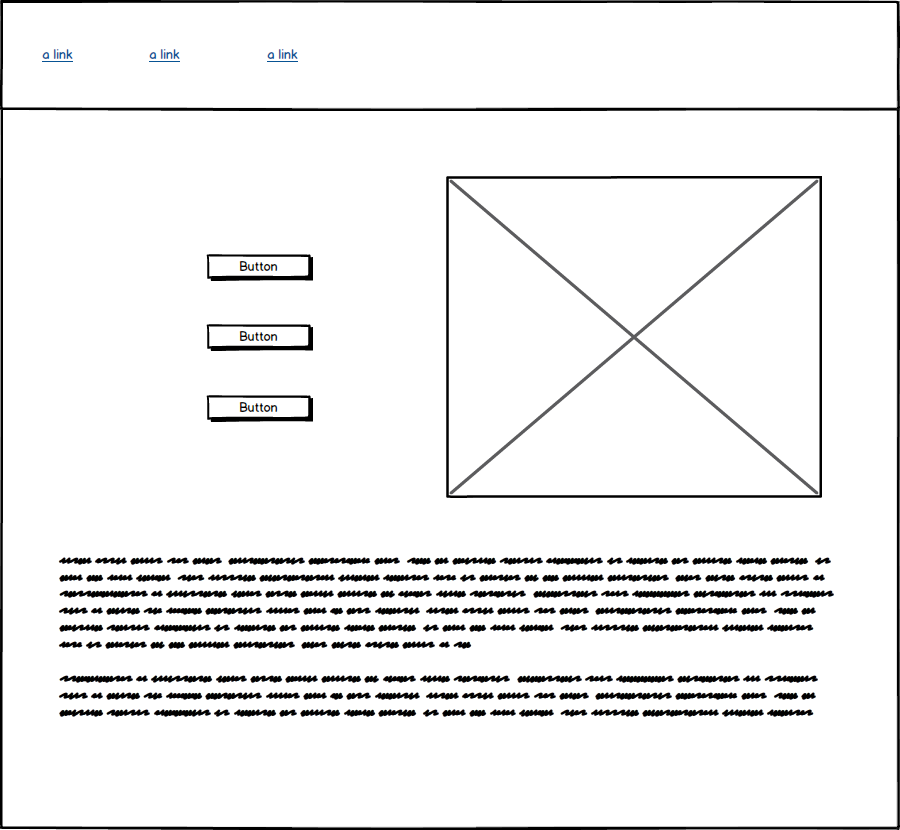button: (201, 247, 316, 290), (199, 320, 317, 361), (202, 390, 323, 428)
image: (439, 171, 830, 505)
navlink: (258, 39, 315, 76), (32, 40, 85, 73), (146, 38, 188, 71)
p: (53, 548, 834, 728)
